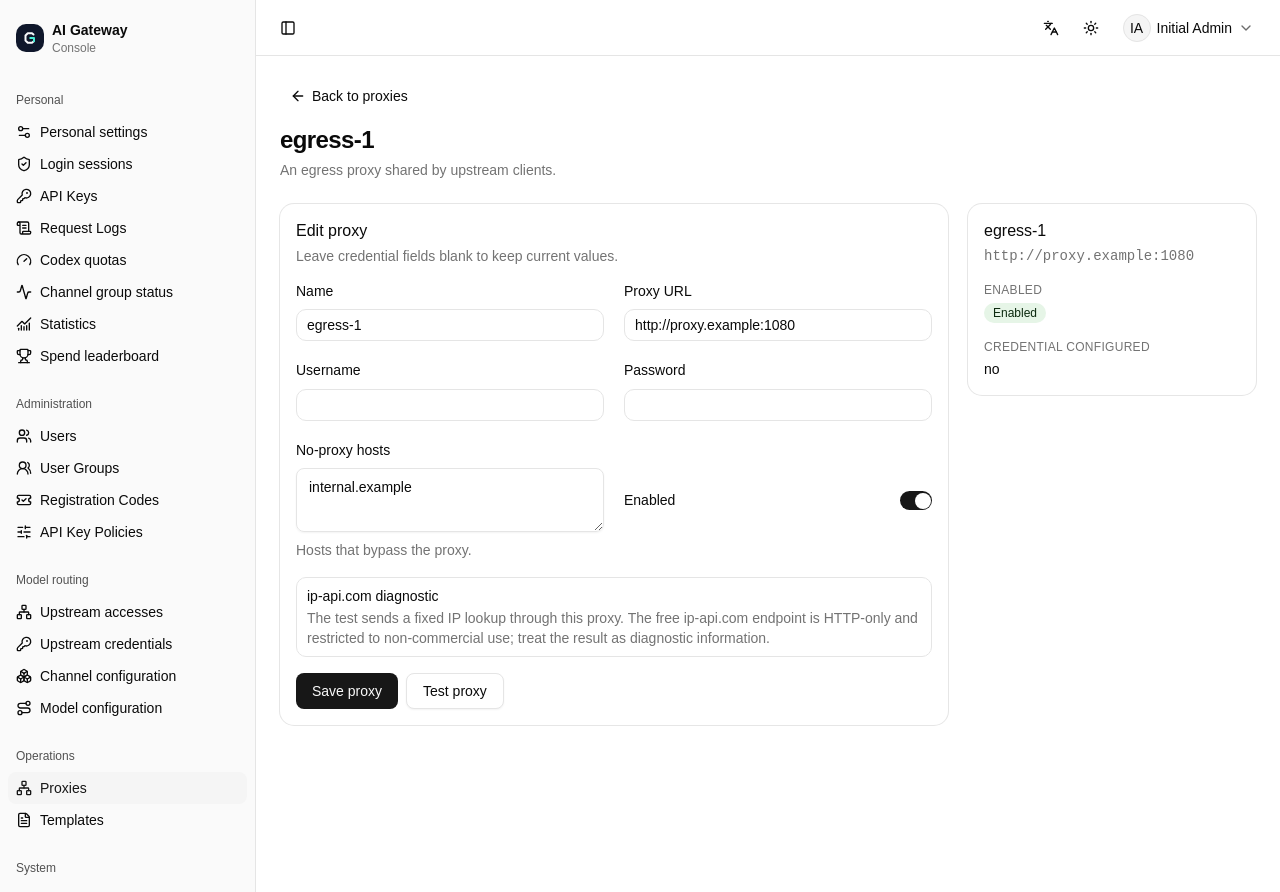
Test: Proxy detail page › identifies an existing proxy so hidden saved credentials can be reused
This screenshot has width=1280, height=892.
Expected: the field showing "http://proxy.example:1080" is shown, [624, 309, 932, 341]
Click the button "Test proxy". click: (455, 691)
box: [406, 673, 504, 709]
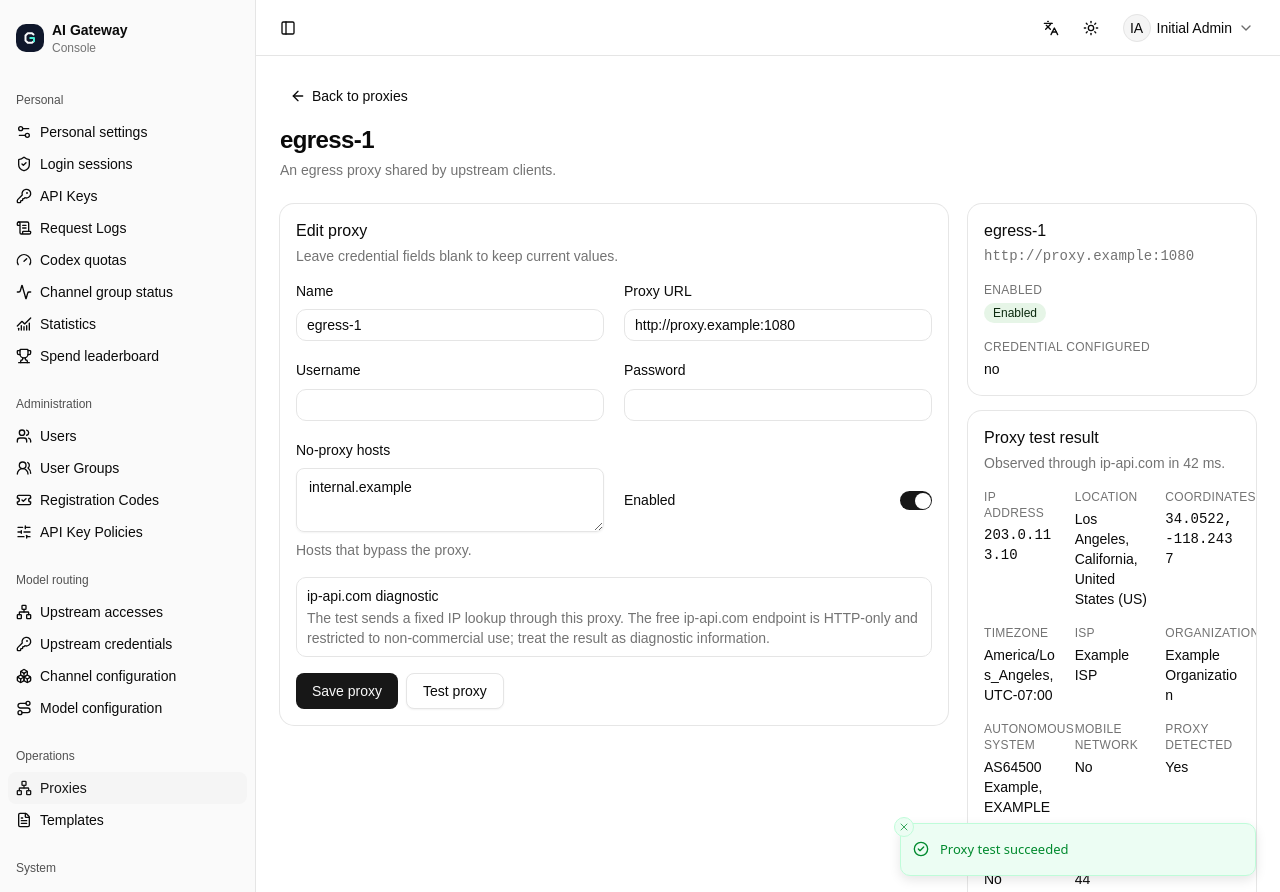
Expected: the text "203.0.113.10" is shown, [984, 525, 1059, 565]
